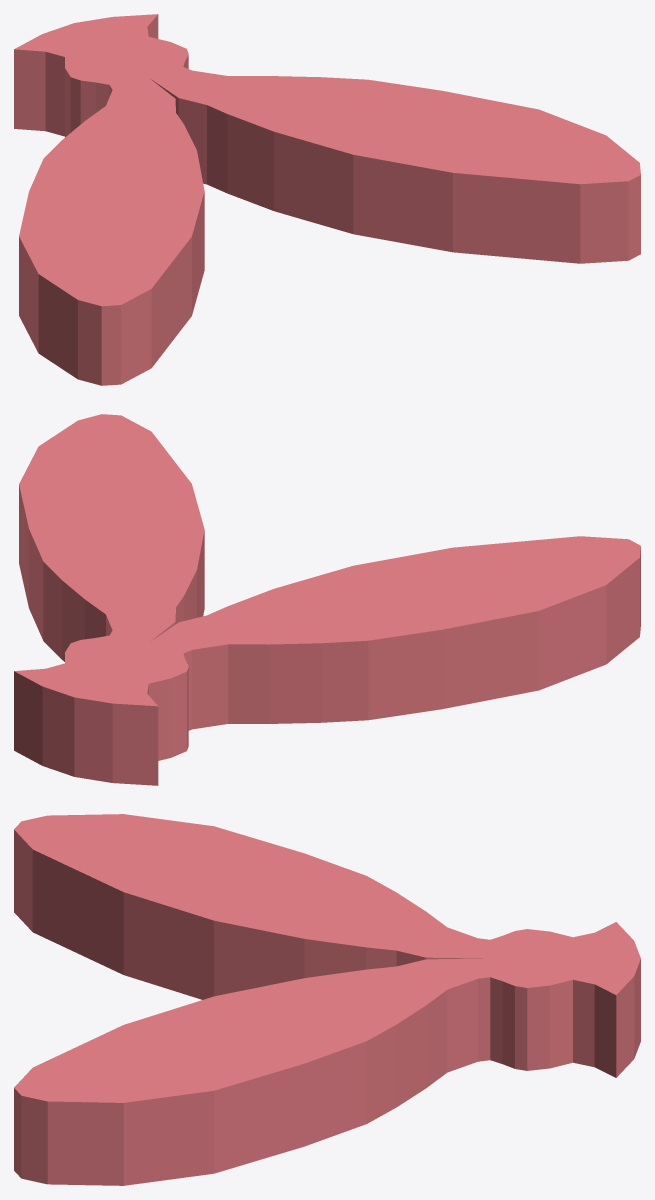
File: lungs.glb
3 views of the same model, one above another, from view 1: azimuth 30°, elevation 25°; view 2: azimuth 150°, elevation 25°; view 3: azimuth 270°, elevation 25° (orthographic). The views are drawn at different scales.
Parts seen in each view (by area): view 1: lungs; view 2: lungs; view 3: lungs.
Boxes of the visible parts, x1,y1,x2,y2 form: lungs: (14,14,640,385); lungs: (14,414,640,785); lungs: (14,814,640,1185).
Size of the model in its own units: 5.4 by 0.7229 by 4.95.
